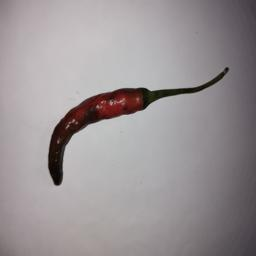Buah Cabai Sehat: (46, 83, 157, 186)
